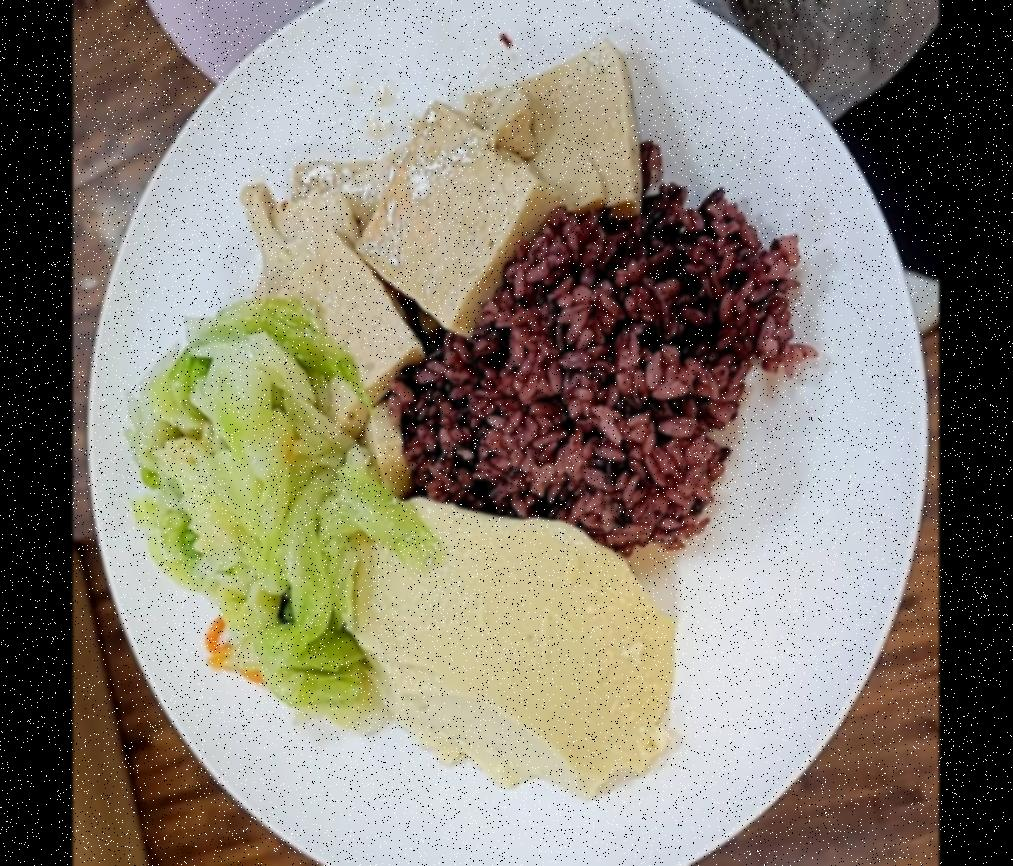plate: (88, 0, 923, 866)
purple rice: (402, 197, 779, 554)
side dish: (254, 45, 645, 419), (130, 309, 392, 715), (342, 494, 682, 797)
